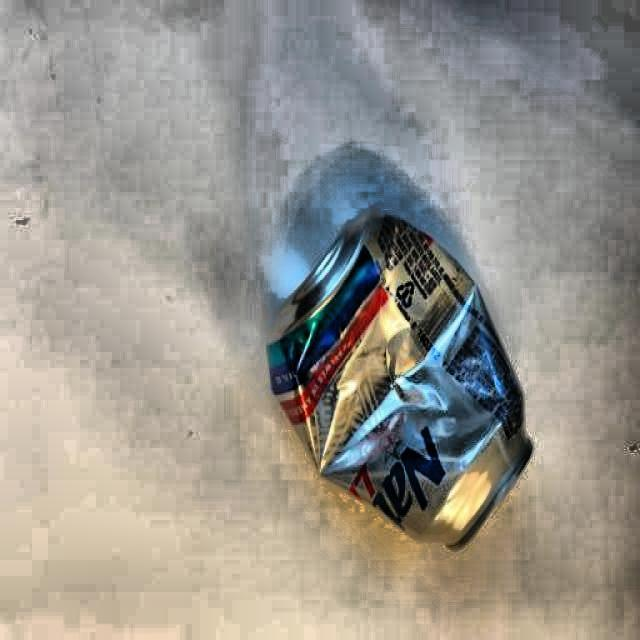metal: (265, 208, 533, 552)
